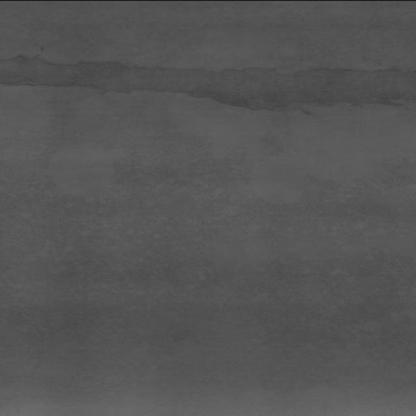water_spot: (3, 53, 415, 130)
